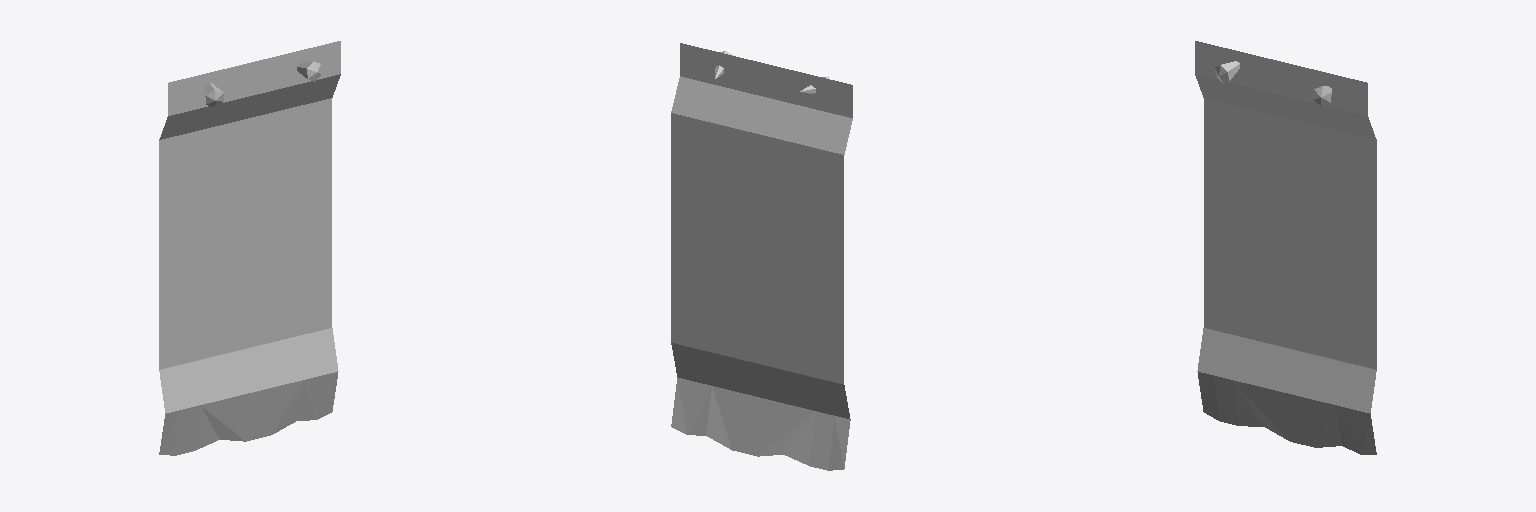
Rendered from banner_patternB_brown.obj.
The picture shows the model from 3 angles: view 1: azimuth 30°, elevation 25°; view 2: azimuth 150°, elevation 25°; view 3: azimuth 330°, elevation 25°; orthographic projection.
Parts seen in each view (by area): view 1: banner_patternB_brown_Cube.15703; view 2: banner_patternB_brown_Cube.15703; view 3: banner_patternB_brown_Cube.15703.
Boxes of the visible parts, x1=… form: banner_patternB_brown_Cube.15703: x1=159, y1=41, x2=340, y2=455; banner_patternB_brown_Cube.15703: x1=671, y1=43, x2=852, y2=470; banner_patternB_brown_Cube.15703: x1=1195, y1=41, x2=1376, y2=454.
Bounding box in the file's own units: 1.5 × 3.2 × 0.3119.